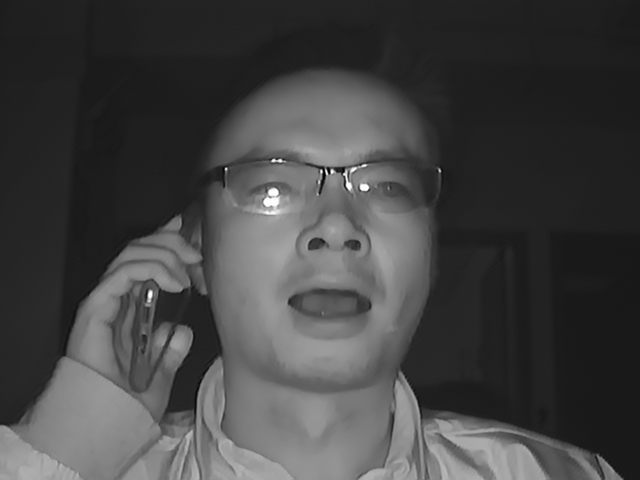hand: (59, 211, 203, 397)
